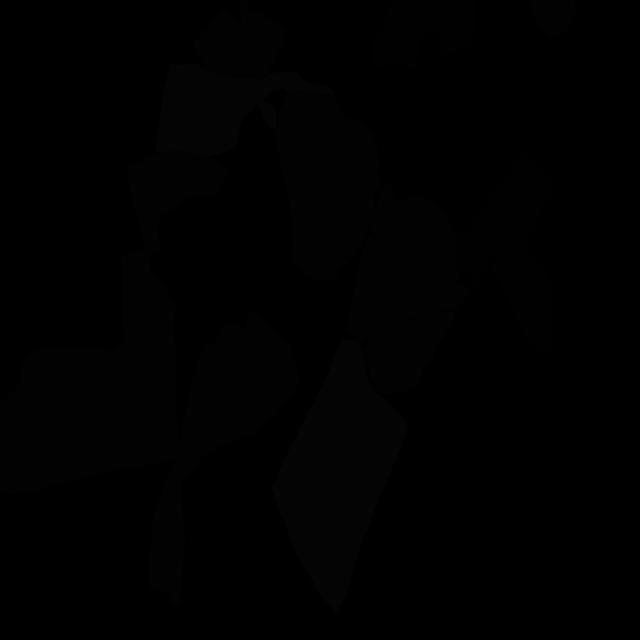cardboard: (149, 310, 299, 606), (0, 247, 178, 495), (273, 92, 348, 281), (346, 236, 474, 344), (316, 94, 382, 260), (127, 150, 230, 252), (371, 181, 458, 284), (364, 311, 456, 396), (192, 0, 286, 80), (528, 0, 576, 38)
rigid_plastic: (457, 150, 558, 289), (371, 0, 476, 70), (490, 252, 555, 356)
soft_plastic: (271, 340, 408, 614), (155, 63, 335, 157)
